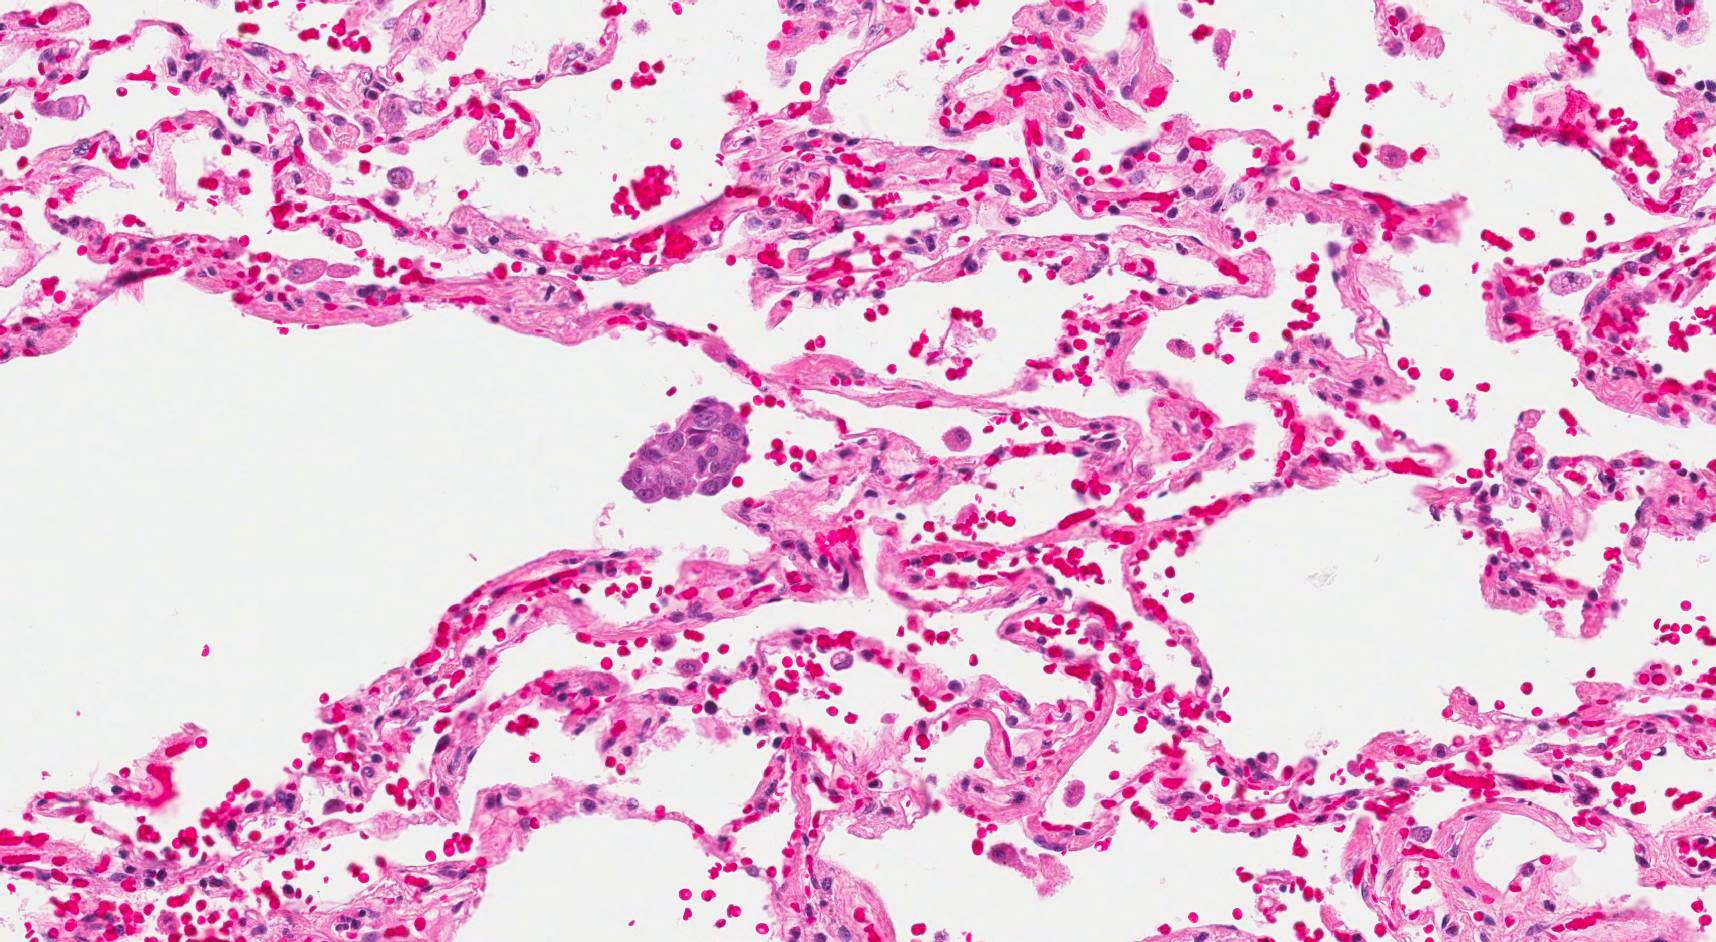stas: (618, 393, 750, 507)
